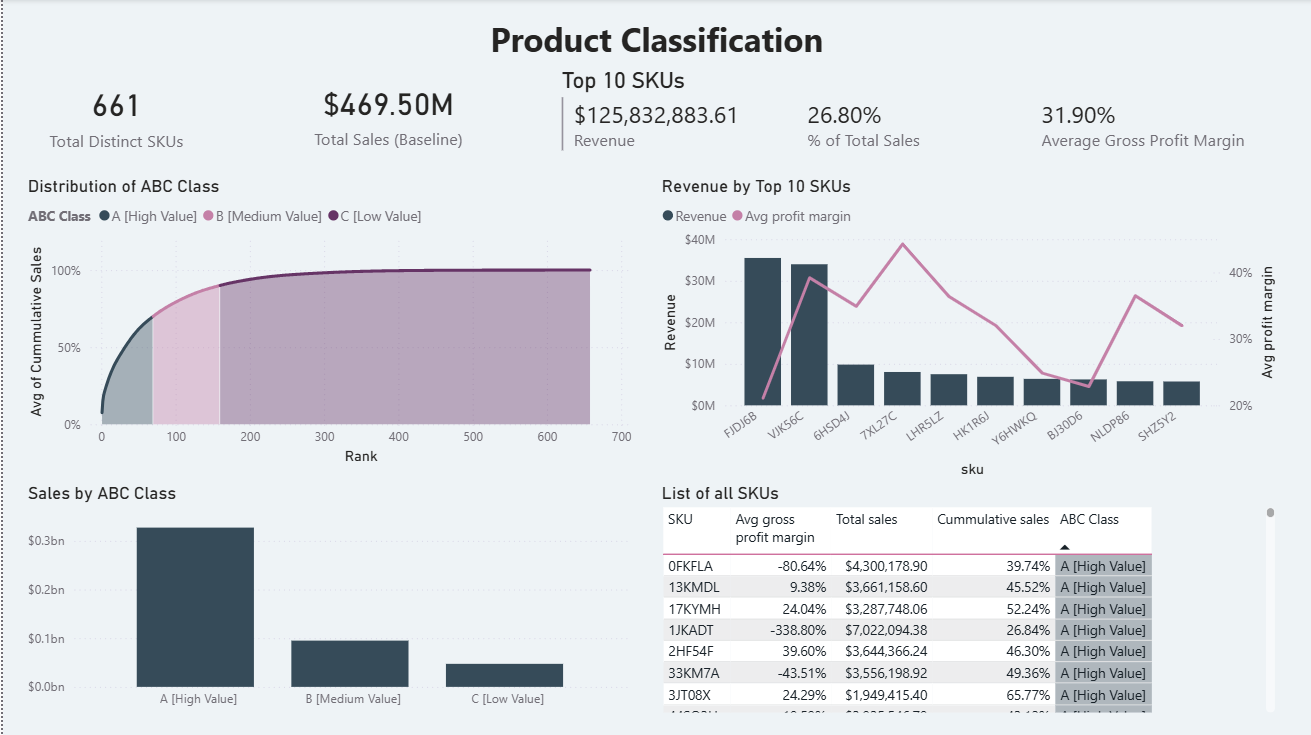

The page's visual inventory and layout, read from the dashboard file:
{"tool":"powerbi","page":{"name":"Sku Analysis","canvas":[1280,720],"ordinal":2},"visuals":[{"type":"areaChart","title":"Distribution of ABC Class","fields":{"Y":["Avg(ABC.CP_revenue)"],"Series":["ABC.ABC_class"],"Category":["ABC.Rank"]},"box":[19.6,172.4,600.4,287.4],"z":0},{"type":"tableEx","title":"List of all SKUs","fields":{"Values":["ABC.sku","Avg(Sales_ Data.gross_profit_margin)","ABC.total_revenue","ABC.CP_revenue","ABC.ABC_class"]},"box":[639.5,473.2,610.2,229.9],"z":1000},{"type":"card","fields":{"Values":["Count(ABC.sku)"]},"box":[19.6,67.3,183.4,91.7],"z":2000},{"type":"clusteredColumnChart","title":"Sales by ABC Class","fields":{"Category":["ABC.ABC_class"],"Y":["Sum(ABC.total_revenue)"]},"box":[19.6,473.2,600.4,229.9],"z":3000},{"type":"lineStackedColumnComboChart","title":"Revenue by Top 10 SKUs","fields":{"Category":["Sales_ Data.sku"],"Y":["Sum(Sales_ Data.calc_revenue)"],"Y2":["Avg(Sales_ Data.gross_profit_margin)"]},"box":[639.5,172.4,610.2,300.8],"z":4000},{"type":"card","fields":{"Values":["Sum(ABC.total_revenue)"]},"box":[266.6,67.3,221.3,89.3],"z":8000},{"type":"multiRowCard","title":"Top 10 SKUs","fields":{"Values":["Sales_ Data.Revenue Top 10 SKUs","Sales_ Data.% Revenue Top 10 SKUs","Sales_ Data.Average Gross Profit Margin (Top 10 SKUs)"]},"box":[541.7,67.3,708,89.3],"z":11002},{"type":"textbox","box":[396.2,12.2,486.7,55],"z":11003}]}

Visuals, with their boxes in screenshot pixels (x1, y1, x2, y2), scaled from the page's 1280x720 canvas onto the 1311x735 screenshot:
"Distribution of ABC Class" areaChart: l=20, t=176, r=635, b=469
"List of all SKUs" tableEx: l=655, t=483, r=1280, b=718
card - Count(ABC.sku): l=20, t=69, r=208, b=162
"Sales by ABC Class" clusteredColumnChart: l=20, t=483, r=635, b=718
"Revenue by Top 10 SKUs" lineStackedColumnComboChart: l=655, t=176, r=1280, b=483
card - Sum(ABC.total_revenue): l=273, t=69, r=500, b=160
"Top 10 SKUs" multiRowCard: l=555, t=69, r=1280, b=160
textbox: l=406, t=12, r=904, b=69
